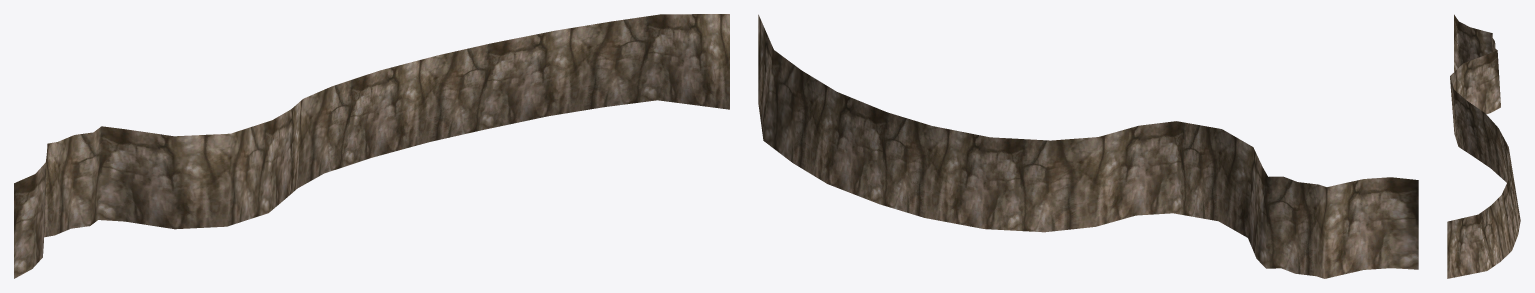
File: OVERHILL_A_01_OBJECT150.fbx
3 views of the same model, side by side, from view 1: azimuth 30°, elevation 25°; view 2: azimuth 150°, elevation 25°; view 3: azimuth 270°, elevation 25° (orthographic). The views are drawn at different scales.
Visible parts, largest first — view 1: OVERHILL_A_01_OBJECT150; view 2: OVERHILL_A_01_OBJECT150; view 3: OVERHILL_A_01_OBJECT150.
Boxes of the visible parts, x1,y1,x2,y2 form: OVERHILL_A_01_OBJECT150: (14, 14, 729, 278); OVERHILL_A_01_OBJECT150: (758, 14, 1418, 278); OVERHILL_A_01_OBJECT150: (1447, 14, 1520, 278).
Size of the model in its own units: 326446 by 50354 by 48774.
1 material, 1 textured.
